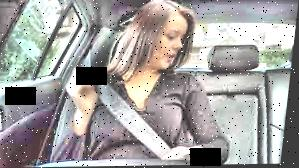seatbelt: (74, 50, 184, 158)
